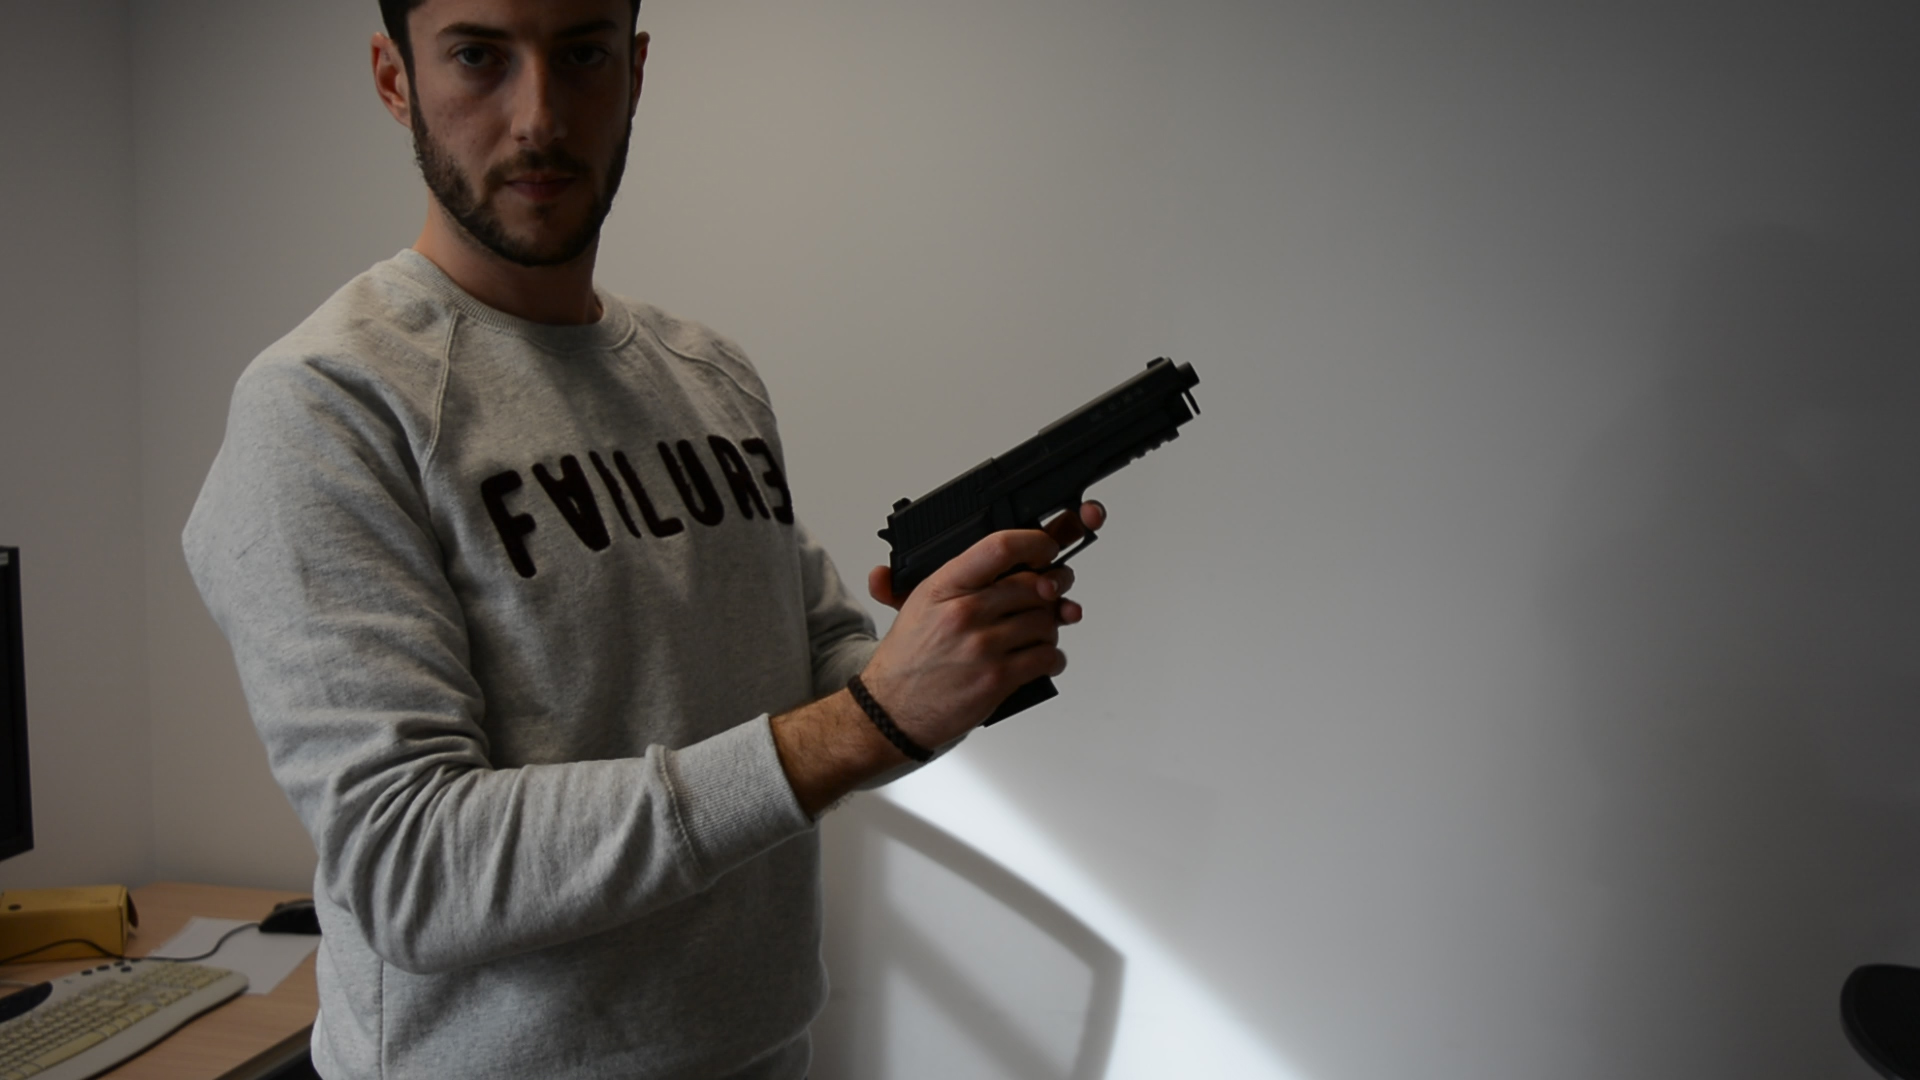pistol: (873, 353, 1204, 731)
